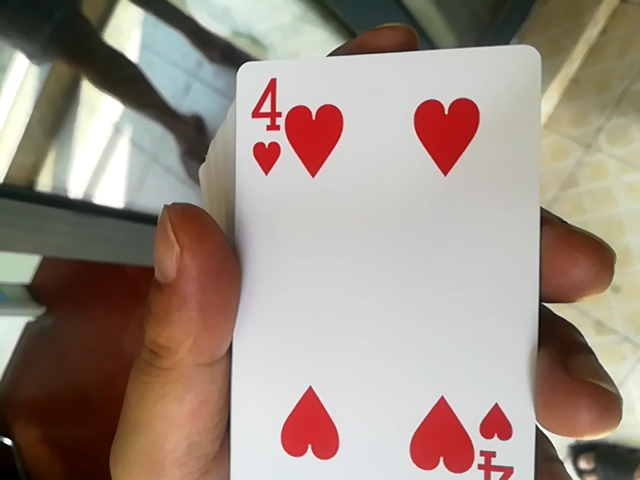hx 4: (216, 48, 569, 479)
